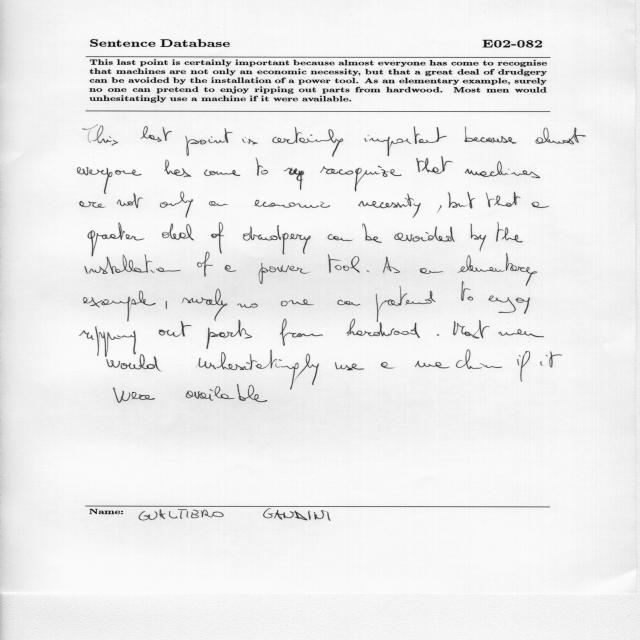word: (199, 350, 319, 390), (284, 166, 402, 192), (458, 253, 538, 286), (365, 126, 447, 157), (83, 291, 156, 322), (376, 286, 436, 322), (273, 127, 344, 157), (243, 225, 311, 255), (88, 223, 145, 257), (85, 255, 181, 274), (80, 326, 136, 357), (78, 167, 142, 194), (415, 350, 502, 369), (358, 193, 421, 218), (182, 289, 227, 321), (347, 319, 420, 338), (185, 128, 233, 156), (206, 320, 252, 349), (465, 161, 540, 178), (280, 319, 323, 346), (259, 263, 310, 284), (394, 226, 455, 242), (465, 126, 517, 144), (107, 354, 162, 371), (535, 128, 586, 145), (160, 192, 193, 218), (488, 295, 530, 314), (83, 125, 118, 146), (186, 386, 235, 401), (113, 387, 155, 403), (453, 320, 490, 338), (416, 157, 453, 174), (254, 200, 330, 208), (328, 254, 360, 273), (162, 224, 194, 241), (496, 223, 523, 243), (237, 385, 267, 403), (159, 321, 192, 337), (141, 126, 173, 142), (486, 192, 520, 207), (448, 192, 476, 209), (164, 160, 191, 177), (471, 224, 486, 252), (211, 222, 224, 254), (517, 351, 530, 382), (362, 223, 382, 243), (197, 252, 213, 277), (117, 193, 143, 208), (540, 351, 562, 368), (498, 329, 544, 337), (383, 257, 400, 273), (335, 362, 364, 371), (204, 169, 240, 176), (281, 299, 314, 306), (256, 158, 268, 176), (461, 285, 473, 301), (80, 201, 105, 208), (328, 234, 353, 241), (420, 268, 443, 274), (338, 300, 361, 306), (242, 137, 258, 144), (237, 303, 258, 308), (532, 202, 549, 208), (209, 201, 228, 206), (381, 362, 394, 369), (225, 265, 237, 272), (438, 205, 442, 212), (166, 301, 168, 309), (367, 271, 369, 273), (437, 334, 439, 336)
